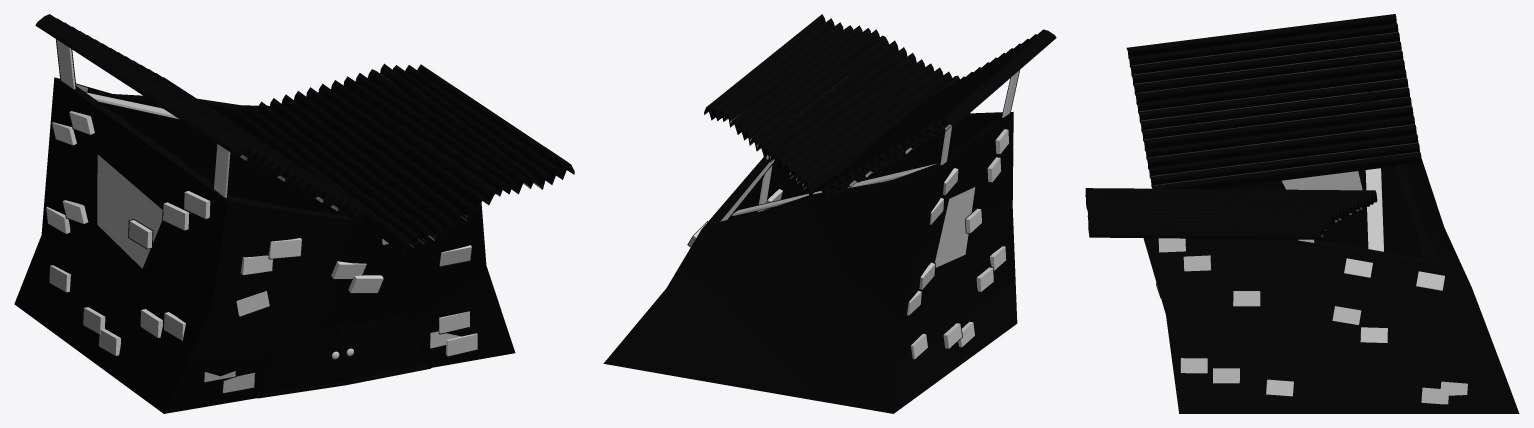
Rendered from Building8.fbx.
3 renders of one model, left to right at view 1: azimuth 30°, elevation 25°; view 2: azimuth 150°, elevation 25°; view 3: azimuth 270°, elevation 25°, orthographic. The views are drawn at different scales.
Visible parts, largest first — view 1: Building8; view 2: Building8; view 3: Building8.
Part boxes in pixels (left/top/right/bottom): Building8: left=14, top=14, right=574, bottom=413; Building8: left=603, top=14, right=1056, bottom=413; Building8: left=1085, top=14, right=1519, bottom=413.
Bounding box in the file's own units: 274 × 243 × 356.
